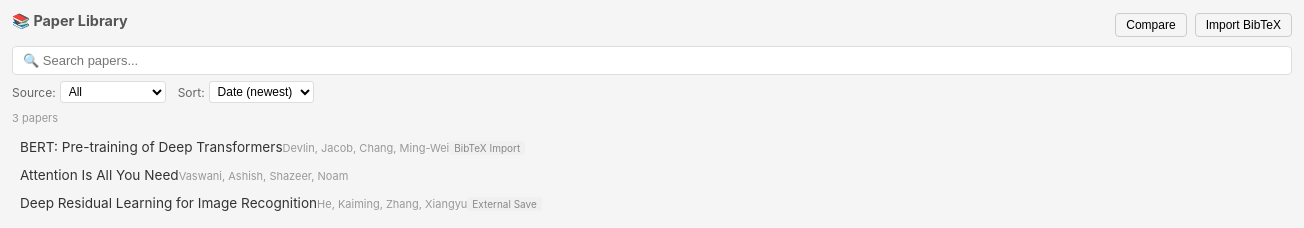
Test: LibraryPanel search › filters papers by title on search
The width and height of the screenshot is (1304, 228).
Expected: the text "Attention Is All You Need" is shown, [20,167,179,183]
Type "BERT" into the field with placeholder "🔍 Search papers..." at (652, 60), box [12,46,1292,75]
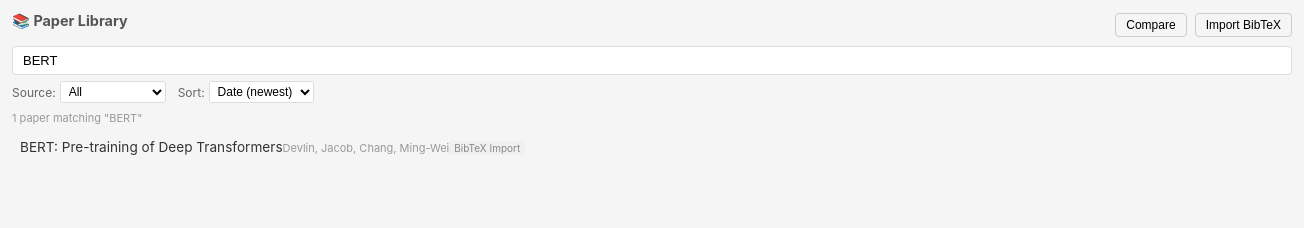
Expected: the text "BERT: Pre-training of Deep Transformers" is shown, [20,139,283,155]
Now the text "Attention Is All You Need" is gone
